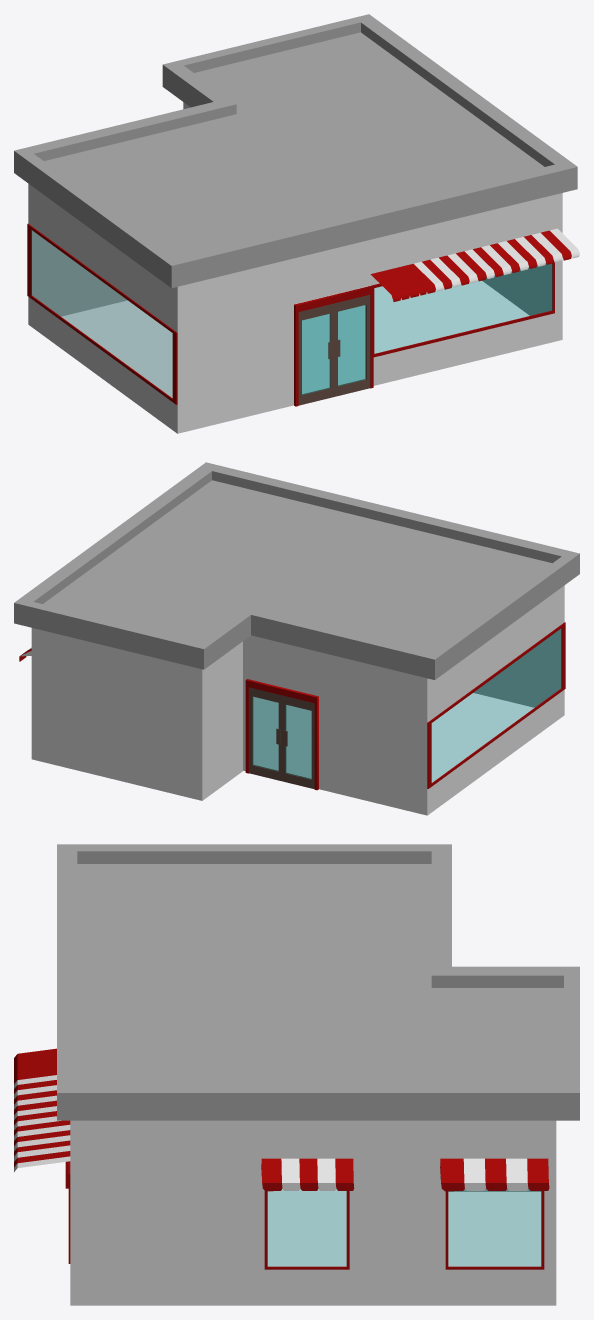
File: Building_Cafe_Mod_03.fbx
3 views of the same model, one above another, from view 1: azimuth 30°, elevation 25°; view 2: azimuth 150°, elevation 25°; view 3: azimuth 270°, elevation 25° (orthographic). The views are drawn at different scales.
Parts seen in each view (by area): view 1: Building15, Shade8, Door23, Door22; view 2: Building15, Door24, Door25; view 3: Building15, Shade8, Shade11, Shade10.
Part boxes in pixels (x1,y1,x2,y2): Building15: (14, 14, 577, 433); Shade8: (370, 228, 579, 301); Door23: (298, 303, 334, 405); Door22: (334, 294, 370, 396); Building15: (14, 462, 579, 815); Door24: (282, 695, 314, 789); Door25: (249, 687, 281, 781); Building15: (57, 844, 579, 1305); Shade8: (14, 1048, 70, 1171); Shade11: (440, 1158, 549, 1191); Shade10: (261, 1158, 354, 1191).
Size of the model in its own units: 9.83 by 3.97 by 9.31.
